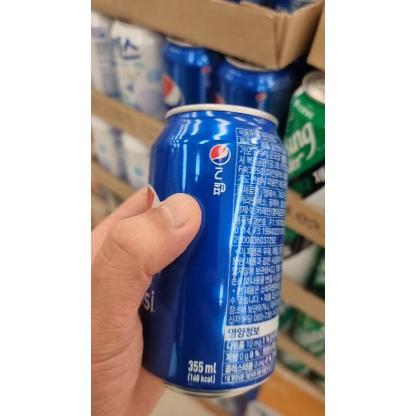Can: (136, 104, 291, 400)
